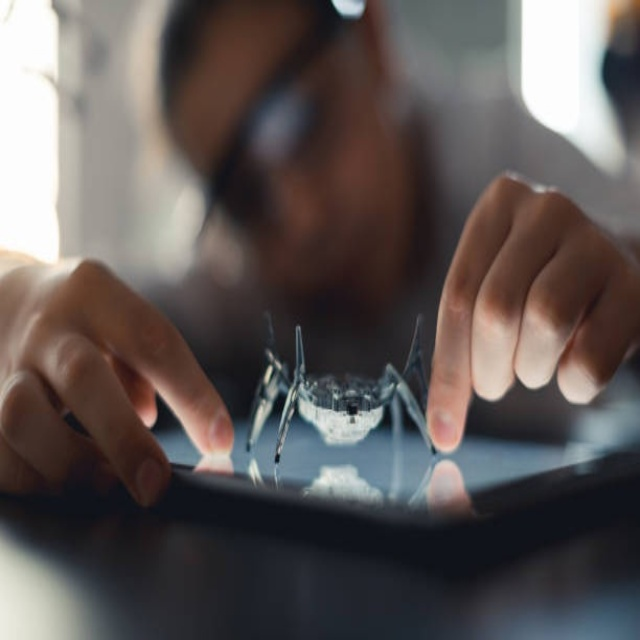Sin_guantes: (421, 169, 639, 452), (0, 251, 235, 509)
